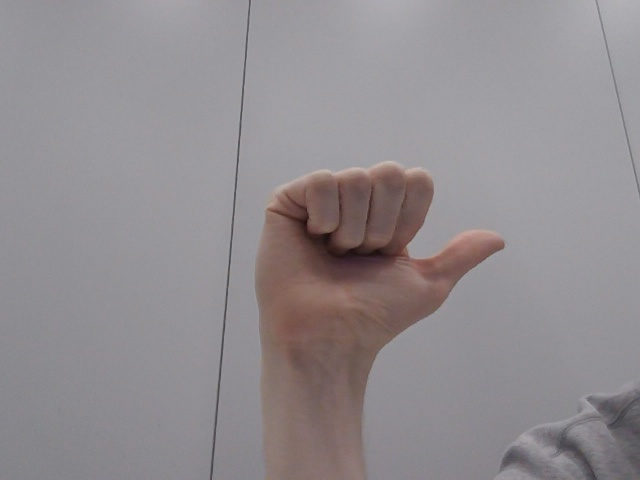left: (218, 101, 533, 384)
